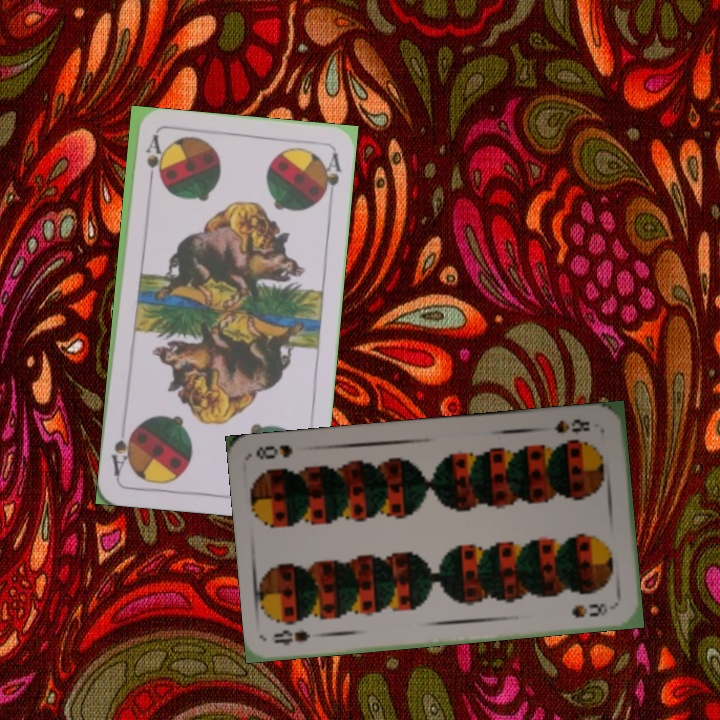S8: (270, 625, 314, 648), (551, 415, 593, 436)
SA: (142, 132, 162, 191)
